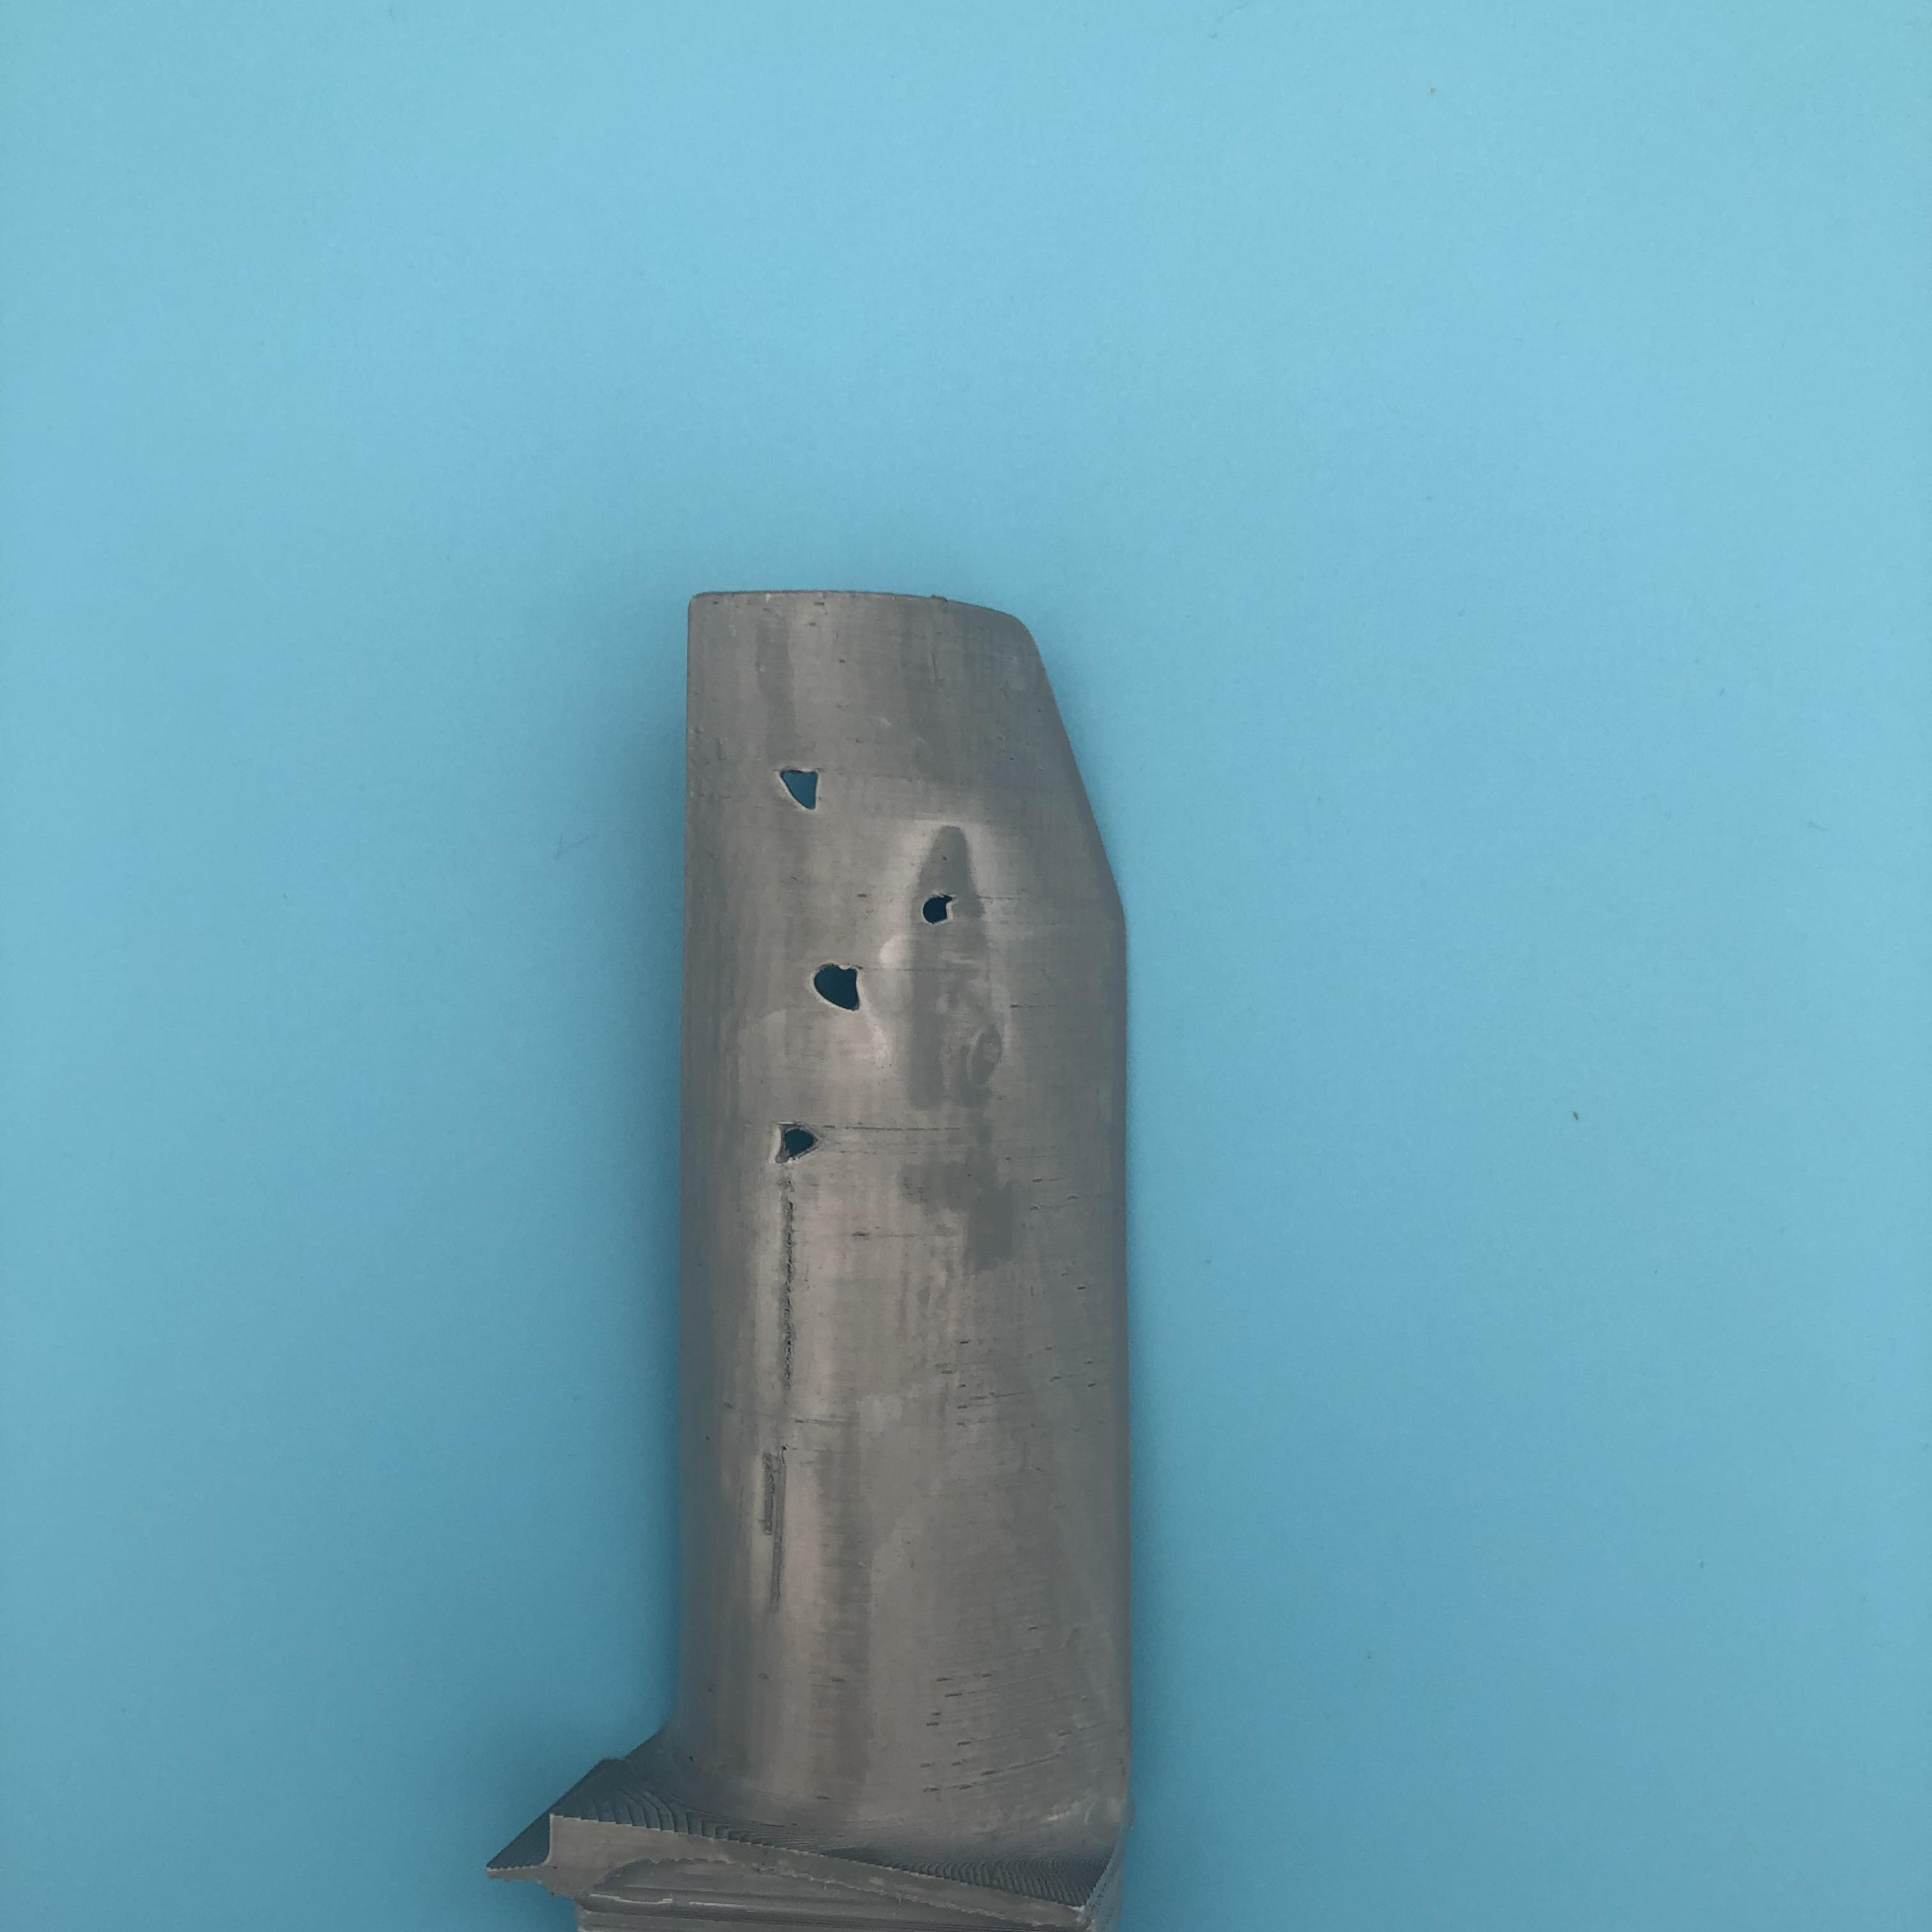breakdown: (770, 763, 968, 1173)
